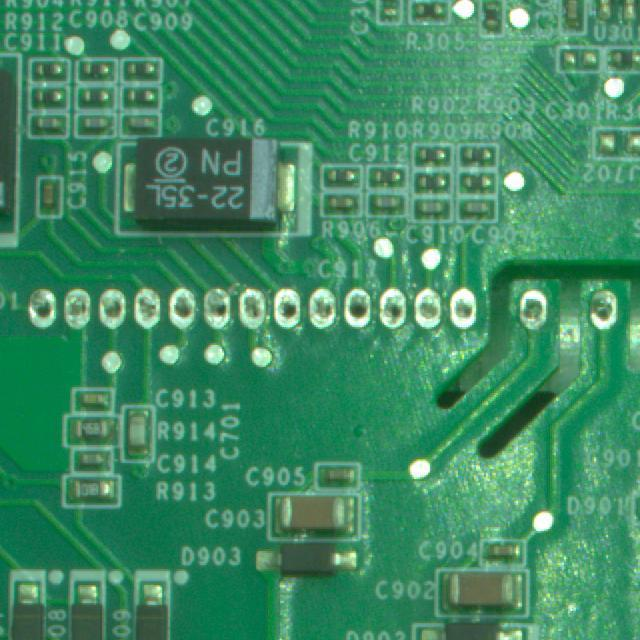Insufficient solder: (404, 281, 444, 337), (373, 282, 411, 336), (200, 285, 239, 336), (343, 281, 375, 339), (65, 281, 98, 337), (236, 285, 269, 340), (271, 291, 308, 339), (515, 284, 553, 330), (449, 282, 476, 342), (587, 287, 623, 332), (28, 281, 56, 334), (310, 291, 338, 342), (175, 282, 200, 336), (137, 283, 164, 331), (96, 284, 125, 326)
